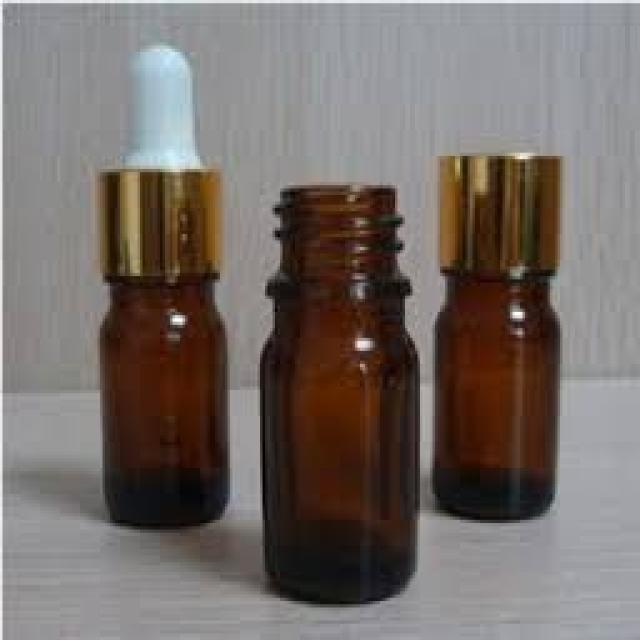glass: (255, 182, 417, 604), (95, 273, 230, 526), (427, 266, 555, 520)
metal: (438, 150, 558, 270), (93, 166, 223, 276)
plastic: (118, 43, 198, 163)
